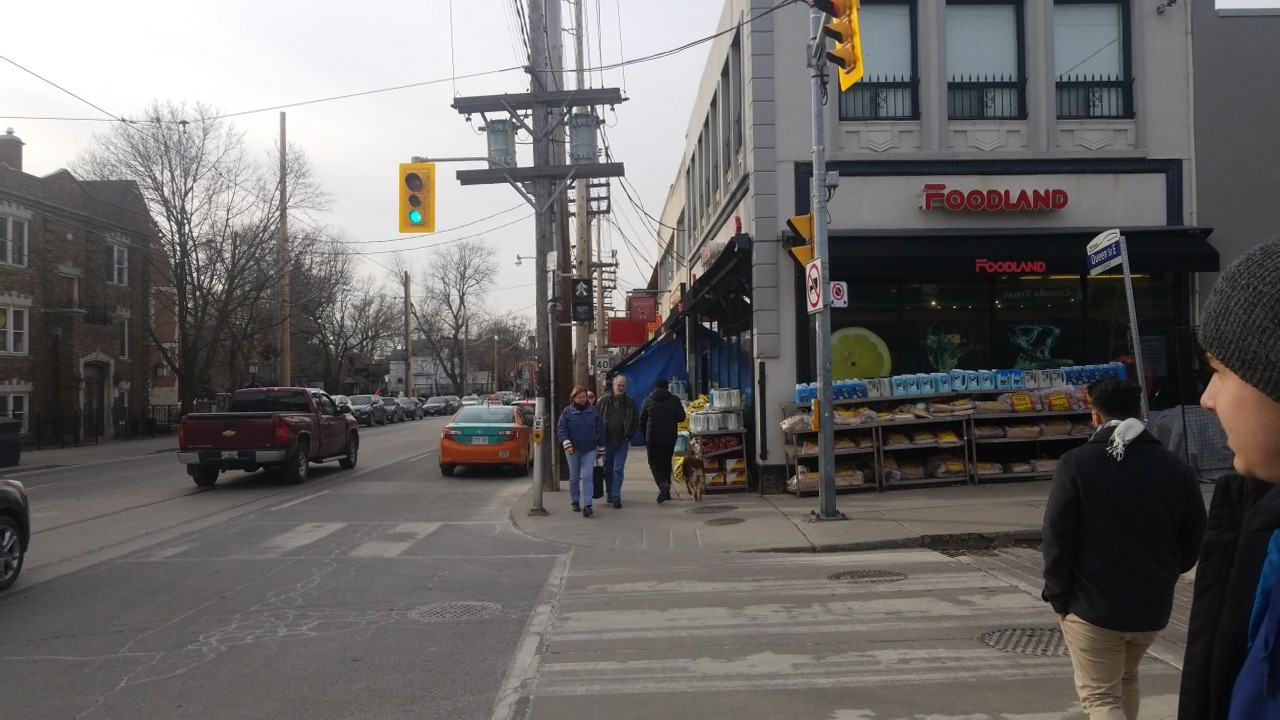light: (564, 266, 596, 325)
